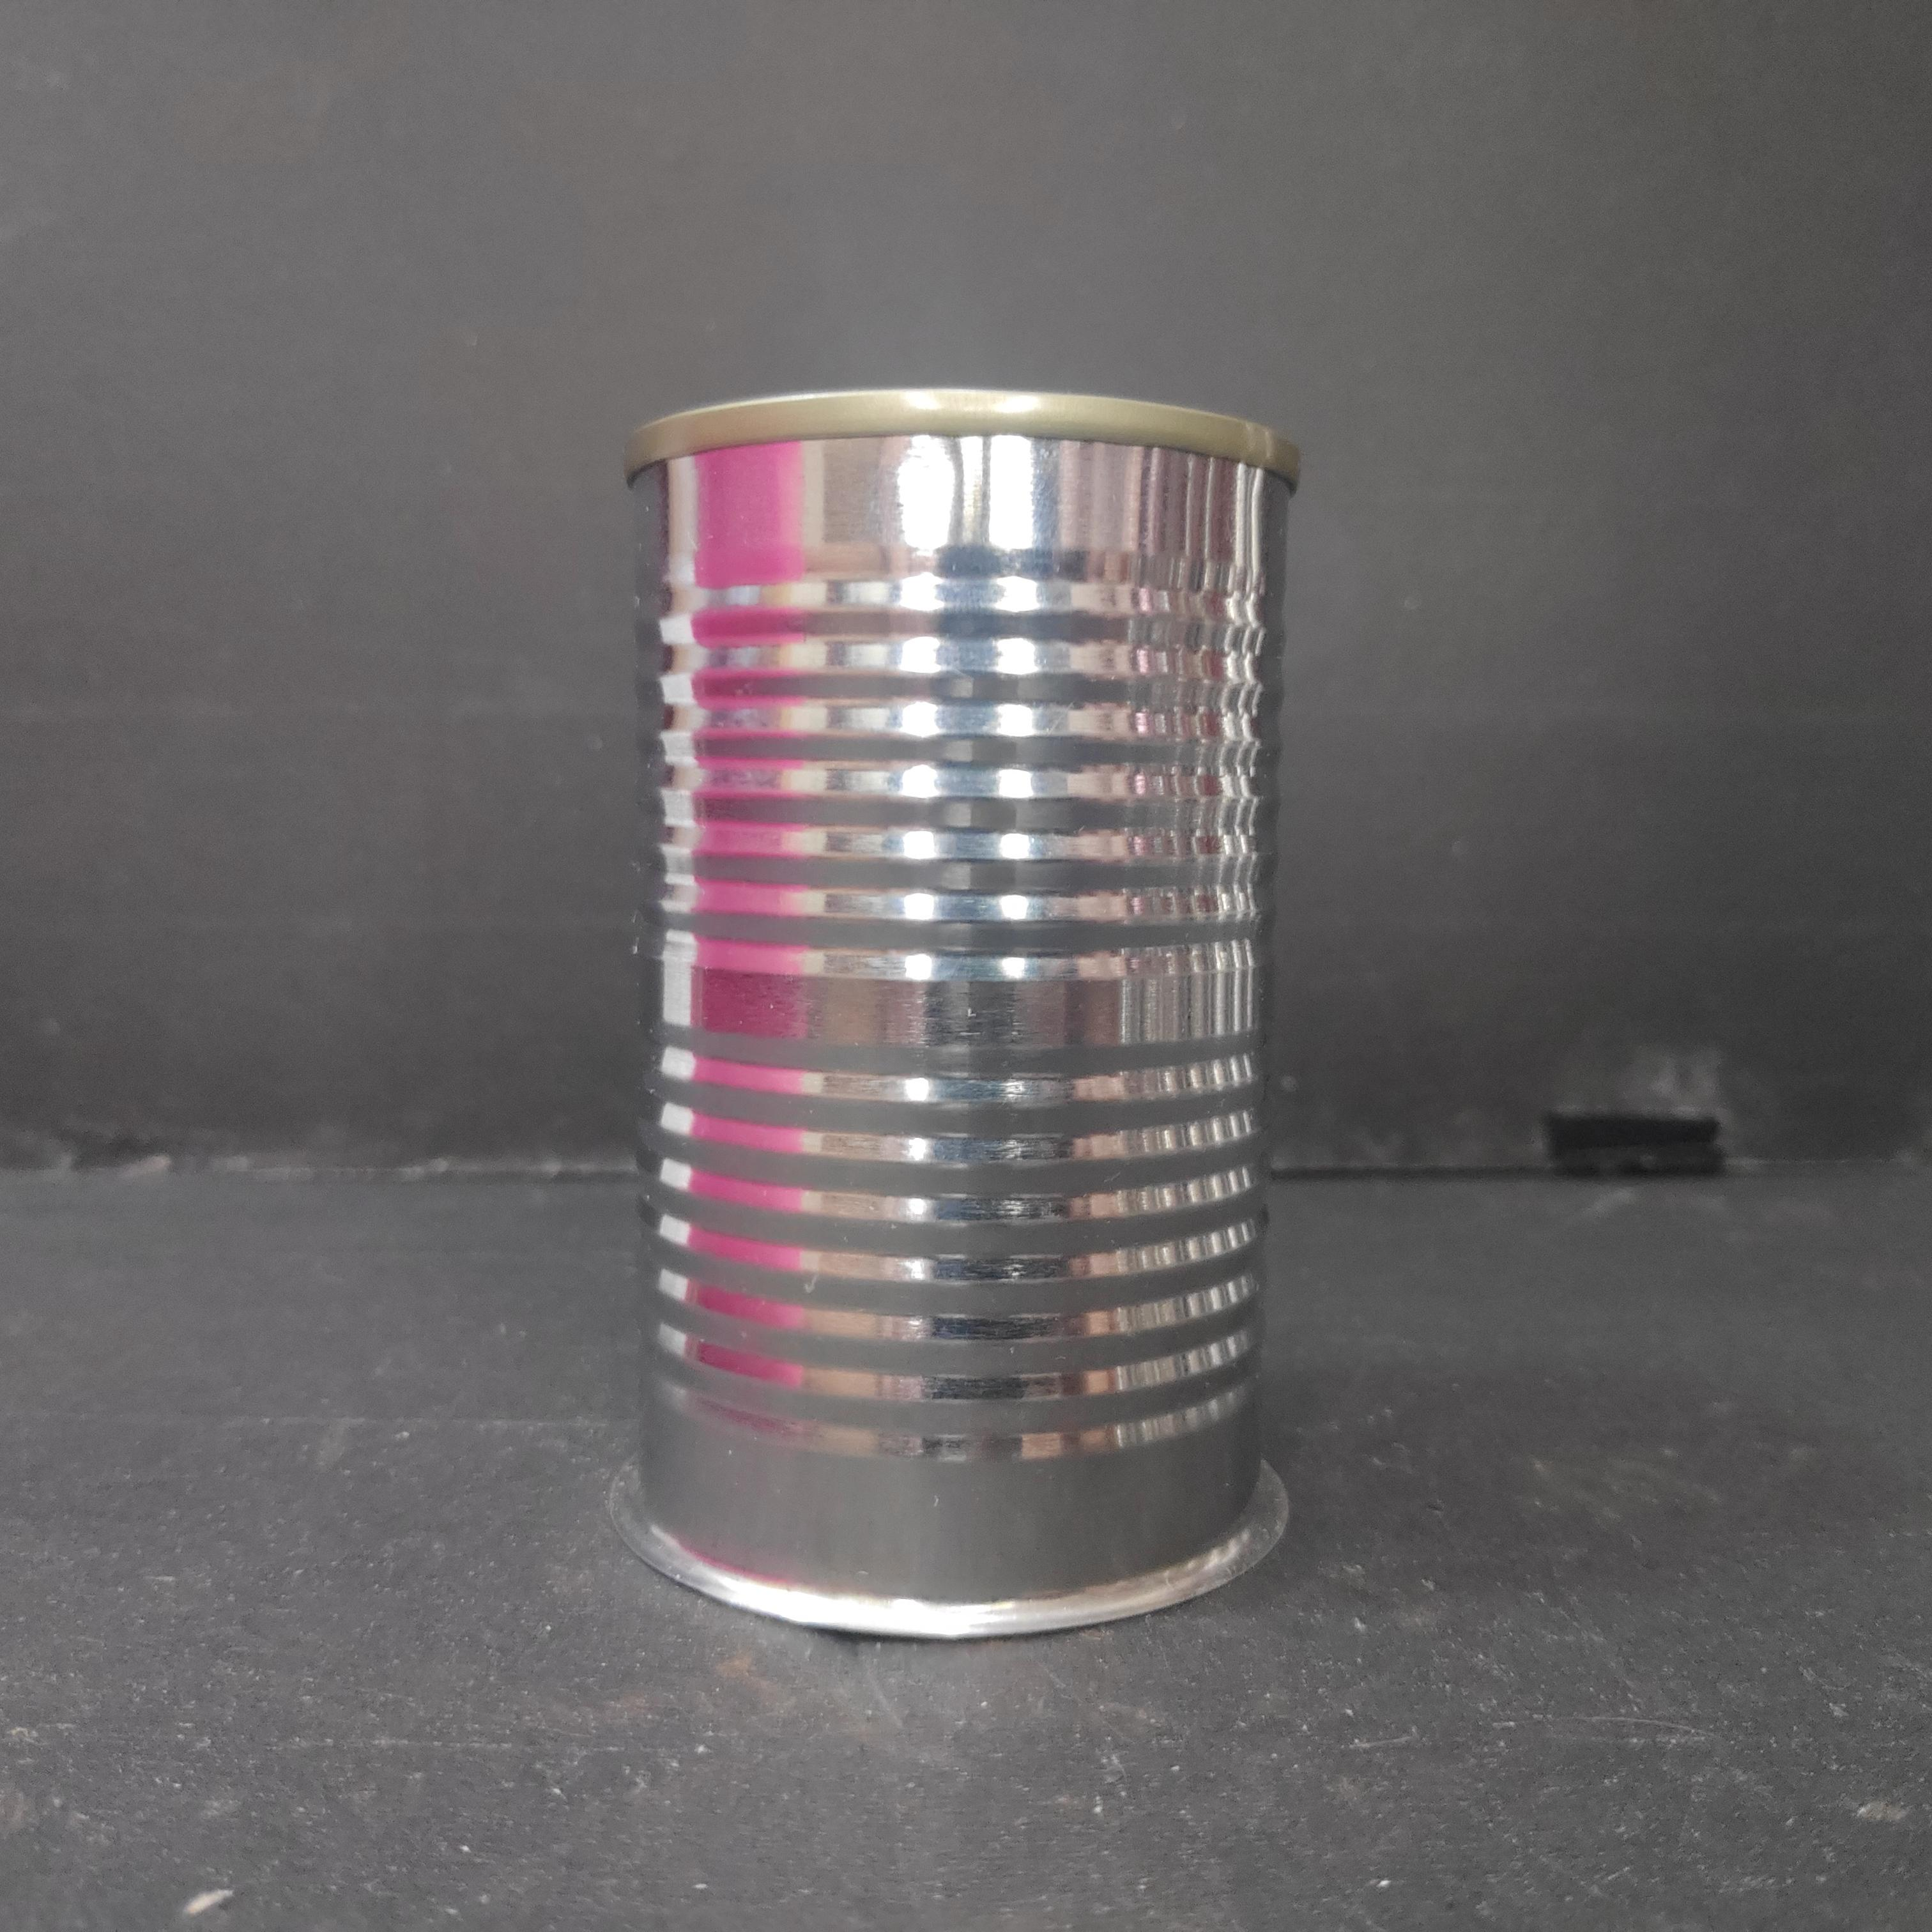No defect: (604, 385, 1306, 1640)
